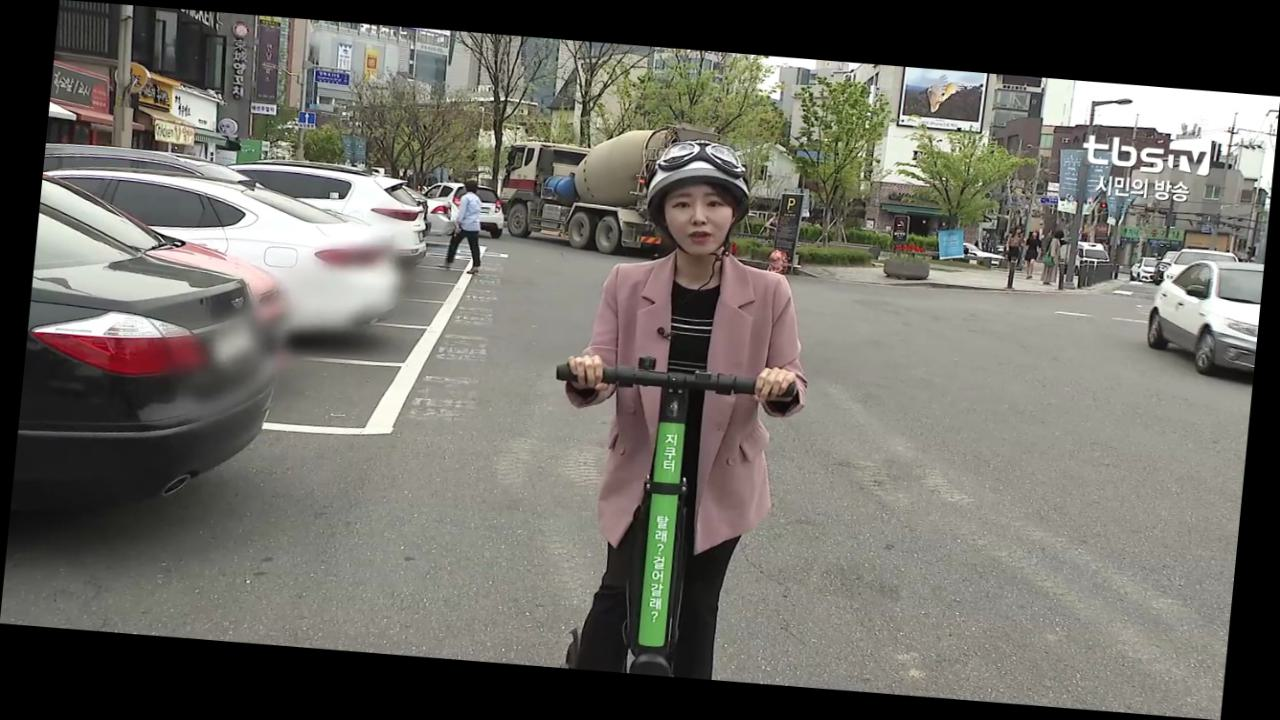helmet: (520, 129, 839, 686)
